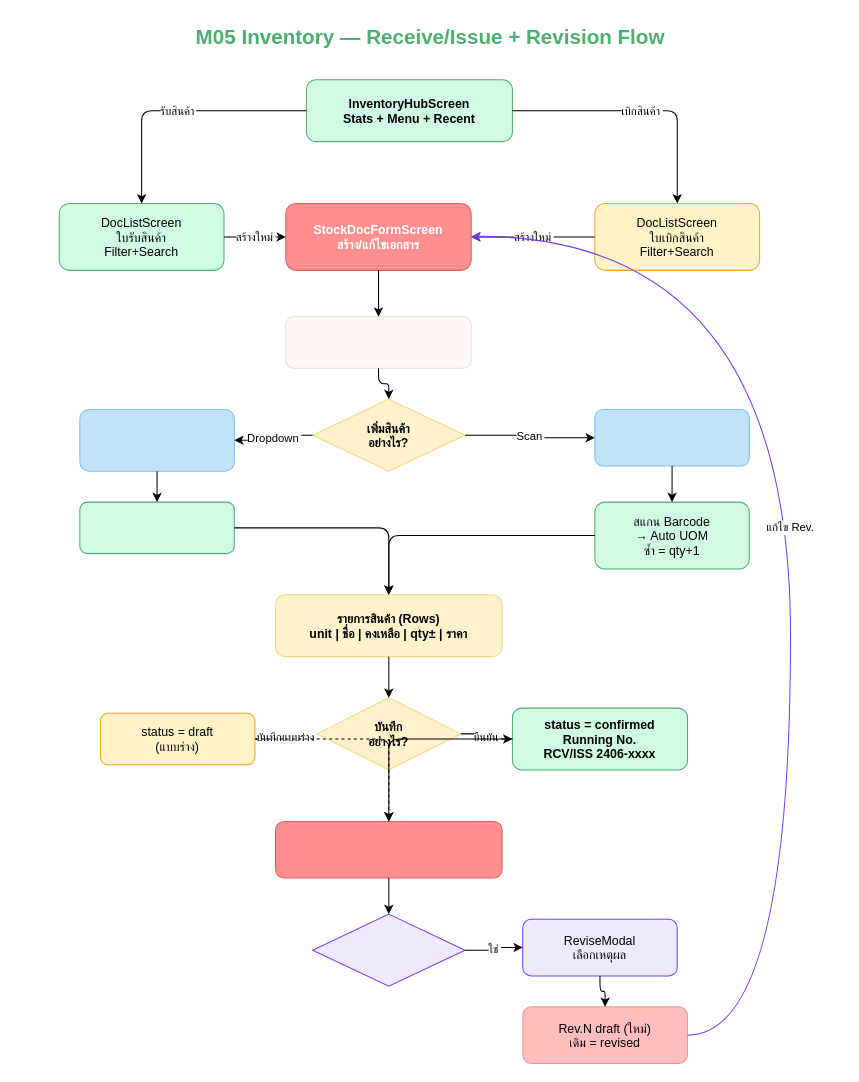
Some shapes in this 859 by 1082 pixel diagram are drawn without their labels. The shapes that lost their labels are listed below. From the top down, each one's box as (x1, y1, x2, y2) in pixels, then its label:
(285, 316, 471, 368): 1. Header Form คลัง + Supplier/ปลายทาง
(79, 408, 234, 471): Dropdown ค้นหาสินค้า เลือก UOM
(594, 408, 749, 466): Scan Mode กด Toggle ON
(79, 501, 234, 554): แสดงยอดคงเหลือ (หน่วยที่เลือก)
(274, 820, 502, 878): StockDocDetailScreen ดูรายละเอียด + Print
(312, 913, 465, 986): Revise ต้องการไหม?
